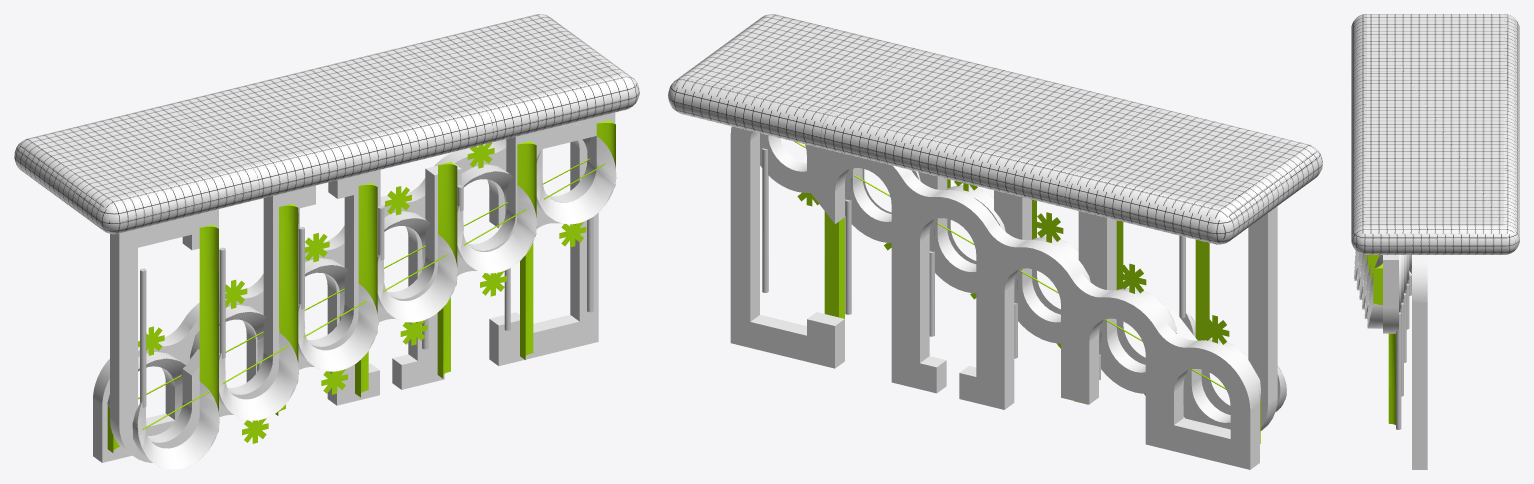
File: 2070s-dj-table-WHT-v73.glb
The picture shows the model from 3 angles, left to right: view 1: azimuth 30°, elevation 25°; view 2: azimuth 150°, elevation 25°; view 3: azimuth 270°, elevation 25°; orthographic projection. The views are drawn at different scales.
Visible parts, largest first — view 1: Box; view 2: Box; view 3: Box.
Boxes of the visible parts, <box> form: Box: <box>14,14,639,469</box>; Box: <box>668,14,1322,469</box>; Box: <box>1351,14,1519,469</box>.
Bounding box in the file's own units: 1.9 × 0.9668 × 0.6072.
1 material, 1 textured.
